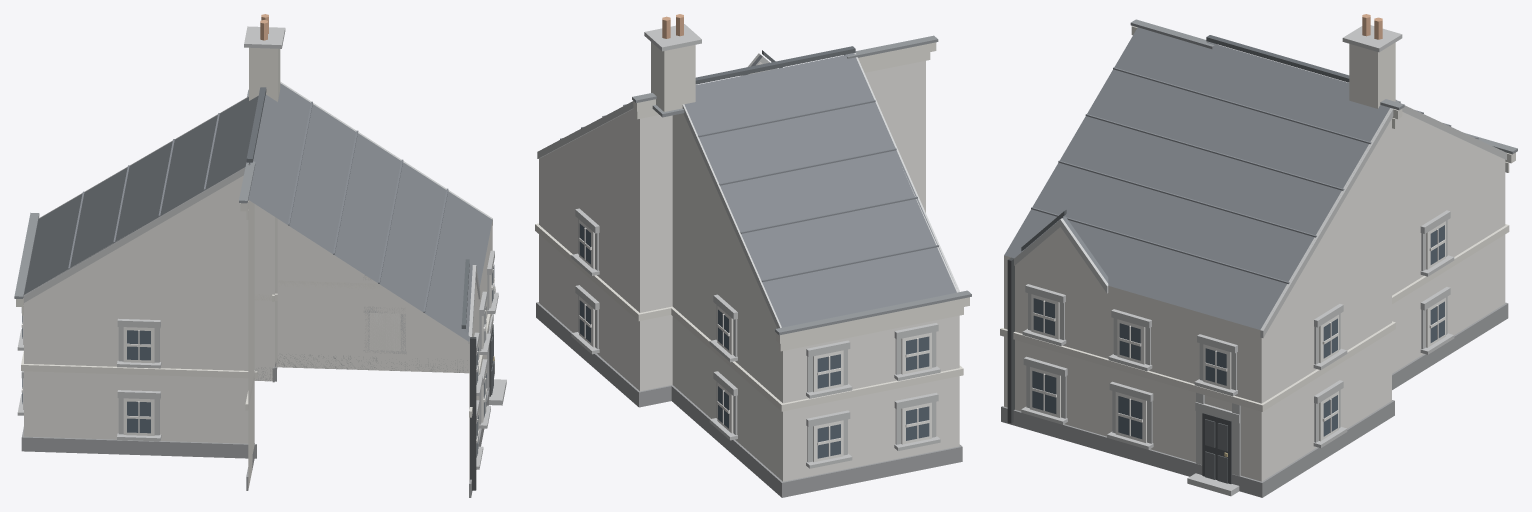
3 renders of one model, left to right at view 1: azimuth 30°, elevation 25°; view 2: azimuth 150°, elevation 25°; view 3: azimuth 270°, elevation 25°, orthographic. The views are drawn at different scales.
Visible parts, largest first — view 1: harl, slate, stone_band, plinth, frame, string, slate_lt, chim_render, lead, pipe, slate_dk, window_glass_014 (+1 smaller); view 2: harl, slate, stone_band, string, plinth, frame, chim_render, lead, slate_lt, slate_dk, window_glass_010, window_glass_013 (+2 smaller); view 3: harl, slate, stone_band, plinth, frame, string, slate_lt, chim_render, slate_dk, pipe, door_dark_p, lead (+6 smaller).
Part boxes in pixels (x1=…): harl: x1=24, y1=175, x2=492, y2=489; slate: x1=24, y1=83, x2=492, y2=341; stone_band: x1=17, y1=26, x2=506, y2=469; plinth: x1=21, y1=354, x2=494, y2=497; frame: x1=21, y1=265, x2=494, y2=456; string: x1=16, y1=201, x2=495, y2=417; slate_lt: x1=68, y1=101, x2=448, y2=312; chim_render: x1=249, y1=47, x2=280, y2=101; lead: x1=14, y1=89, x2=255, y2=298; pipe: x1=470, y1=337, x2=476, y2=490; slate_dk: x1=246, y1=87, x2=469, y2=328; window_glass_014: x1=127, y1=401, x2=150, y2=433; harl: x1=539, y1=61, x2=959, y2=481; slate: x1=684, y1=53, x2=956, y2=327; stone_band: x1=537, y1=24, x2=959, y2=468; string: x1=535, y1=42, x2=969, y2=411; plinth: x1=536, y1=302, x2=962, y2=497; frame: x1=579, y1=219, x2=931, y2=462; chim_render: x1=651, y1=42, x2=695, y2=111; lead: x1=632, y1=35, x2=971, y2=335; slate_lt: x1=560, y1=100, x2=938, y2=282; slate_dk: x1=695, y1=46, x2=855, y2=84; window_glass_010: x1=817, y1=424, x2=840, y2=458; window_glass_013: x1=906, y1=336, x2=929, y2=370; harl: x1=1004, y1=112, x2=1505, y2=481; slate: x1=1004, y1=27, x2=1389, y2=329; stone_band: x1=1014, y1=25, x2=1506, y2=496; plinth: x1=1001, y1=302, x2=1508, y2=497; frame: x1=1030, y1=221, x2=1445, y2=442; string: x1=1000, y1=26, x2=1515, y2=411; slate_lt: x1=1031, y1=67, x2=1478, y2=283; chim_render: x1=1349, y1=42, x2=1395, y2=108; slate_dk: x1=1021, y1=35, x2=1349, y2=251; pipe: x1=1007, y1=257, x2=1014, y2=423; door_dark_p: x1=1205, y1=419, x2=1227, y2=483; lead: x1=1130, y1=19, x2=1517, y2=154.
Size of the model in its own units: 14.99 by 11.64 by 14.13.
